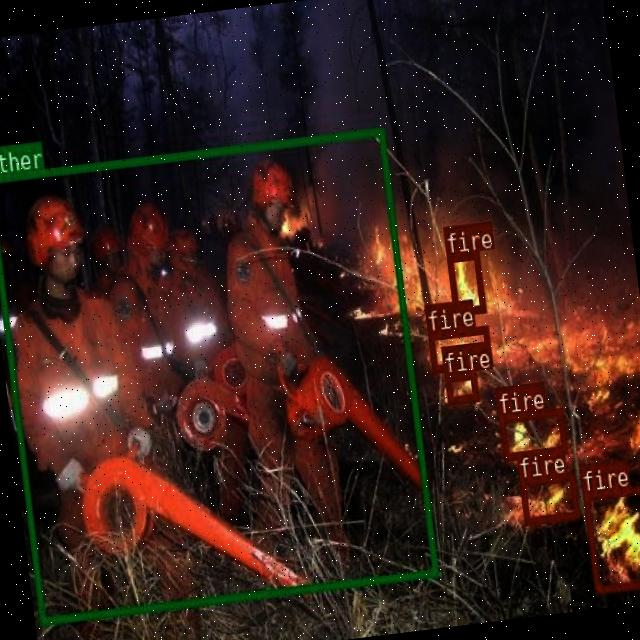fire: (581, 481, 640, 592), (498, 407, 567, 459), (518, 472, 579, 523), (426, 325, 491, 371), (445, 250, 485, 314), (442, 368, 478, 404)
